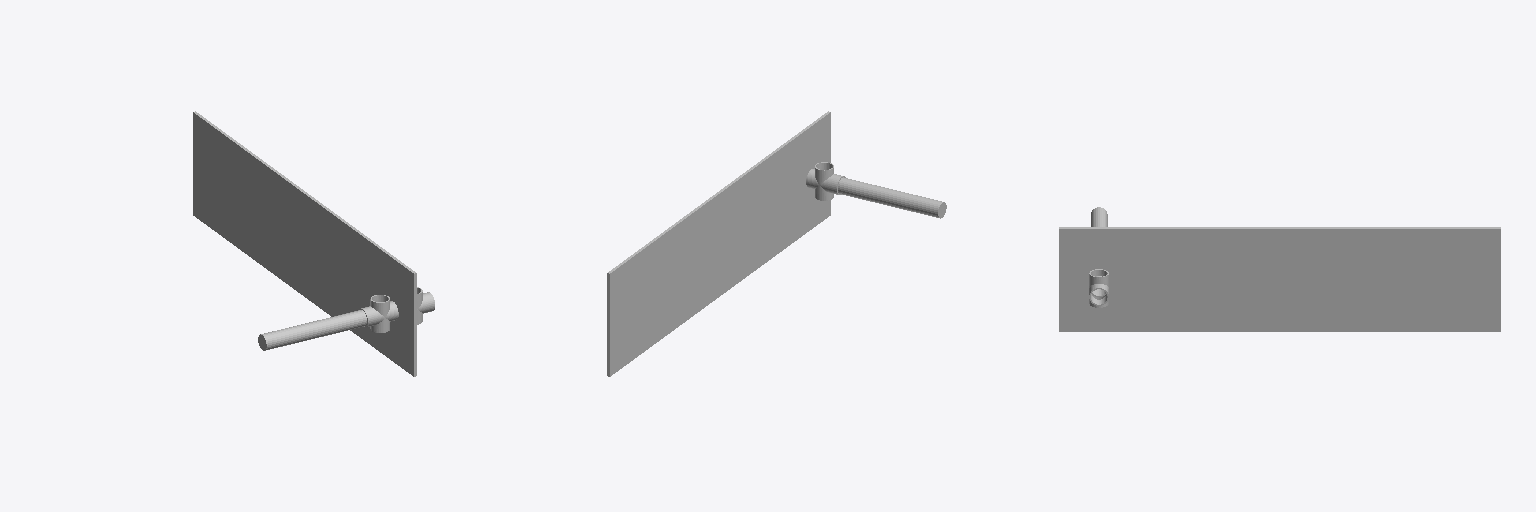
Rendered from stakethroughheart-ruchome.obj.
3 renders of one model, left to right at view 1: azimuth 30°, elevation 25°; view 2: azimuth 150°, elevation 25°; view 3: azimuth 270°, elevation 25°, orthographic.
Parts seen in each view (by area): view 1: Bryła3, Bryła2, Bryła1; view 2: Bryła3, Bryła2, Bryła1; view 3: Bryła3, Bryła1.
Part boxes in pixels (bbox=[...]): Bryła3: bbox=[193, 111, 416, 376]; Bryła2: bbox=[258, 310, 366, 350]; Bryła1: bbox=[359, 287, 434, 332]; Bryła3: bbox=[607, 111, 830, 376]; Bryła2: bbox=[838, 177, 946, 218]; Bryła1: bbox=[806, 162, 845, 200]; Bryła3: bbox=[1059, 227, 1500, 331]; Bryła1: bbox=[1089, 269, 1108, 307].
Bounding box in the file's own units: 290 × 170 × 660.